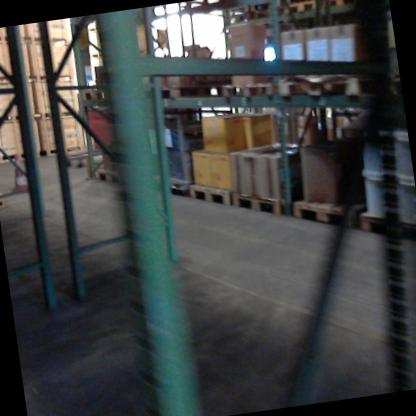pallet: (288, 186, 362, 244), (273, 66, 368, 110), (230, 174, 298, 222), (184, 168, 245, 219), (355, 196, 416, 245), (142, 77, 217, 114), (86, 160, 135, 202), (218, 73, 274, 108), (219, 8, 258, 40), (174, 0, 235, 17), (250, 2, 288, 29), (75, 78, 113, 102), (283, 0, 321, 18), (321, 0, 366, 14), (0, 187, 13, 211)
stillage: (133, 90, 223, 193)
